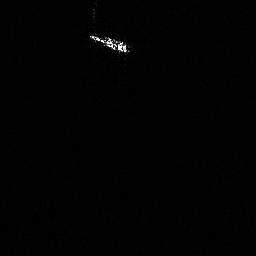ship: (87, 30, 133, 55)
